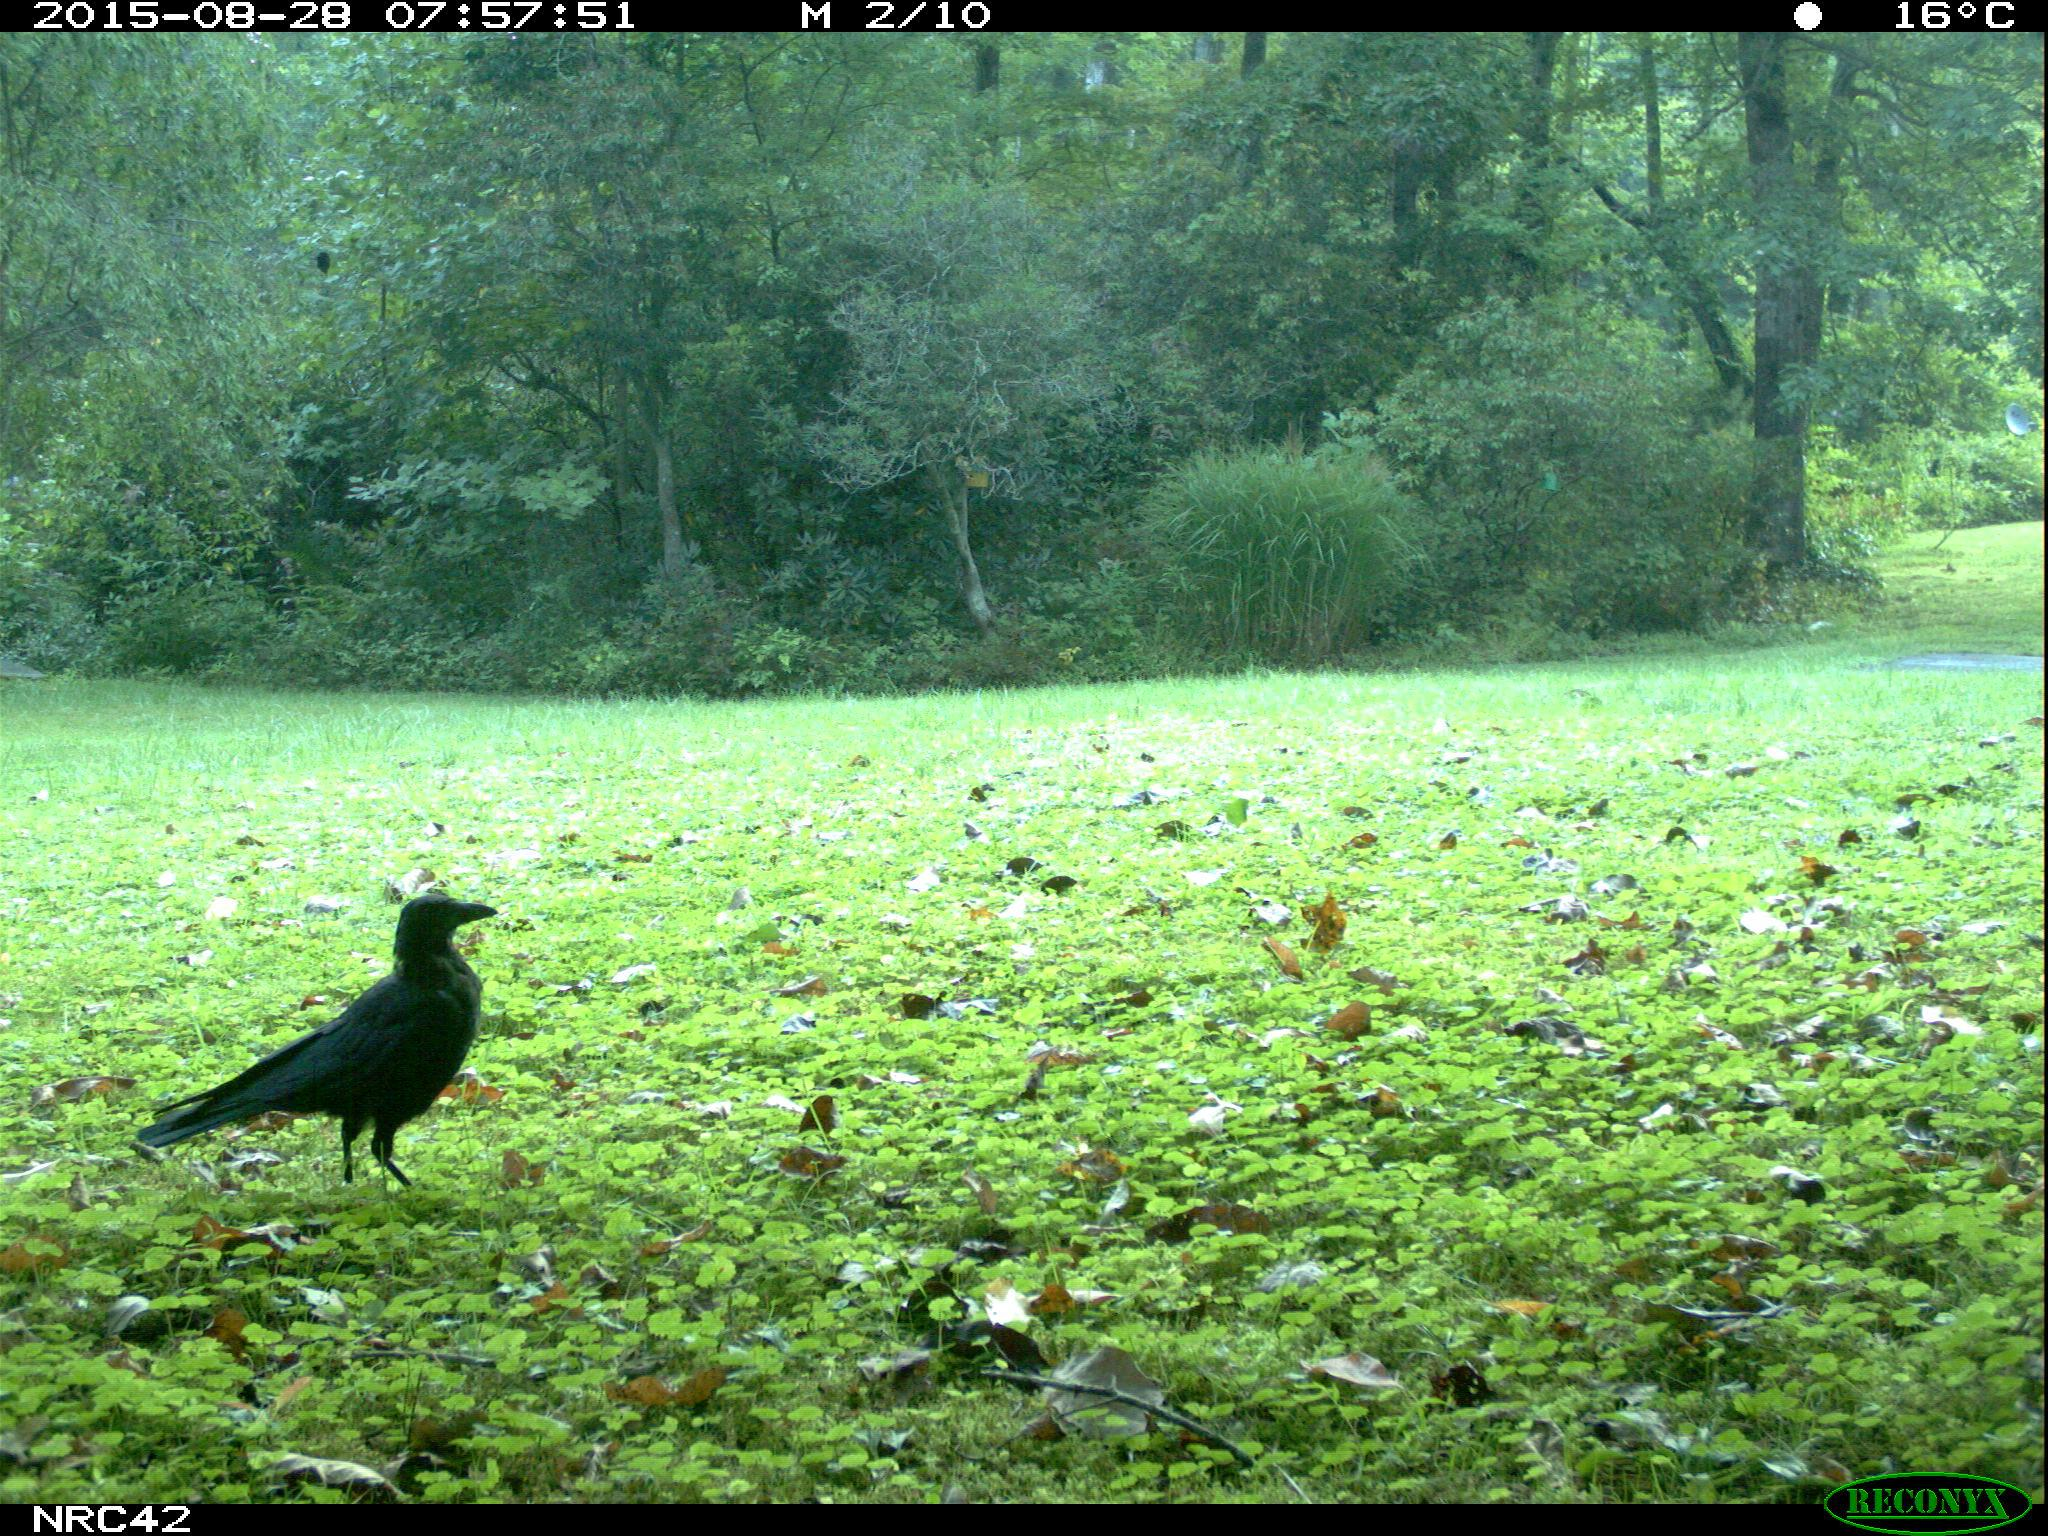Animal: (137, 895, 498, 1196)
